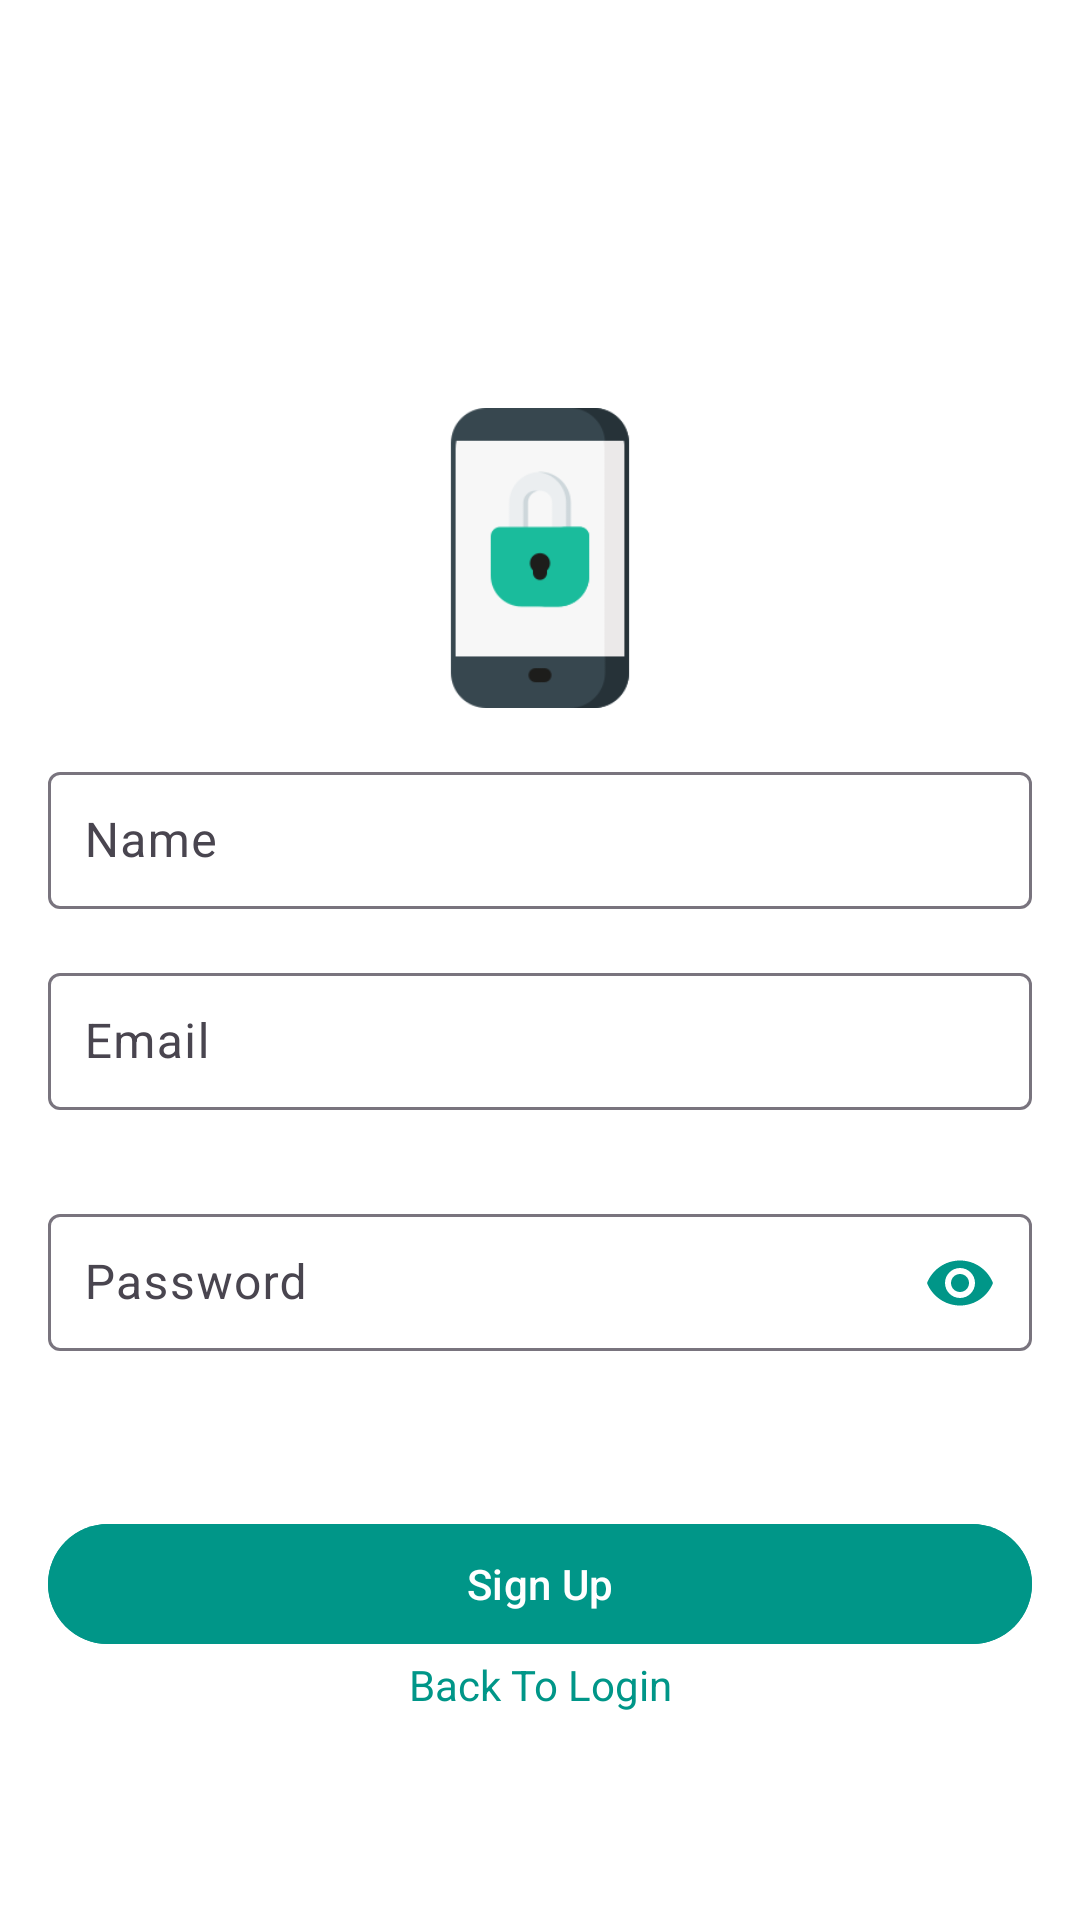

Named icons in this screenshot (1080px x 1920px) and their bounding boxes, {"left": x1, "top": y1, "right": x2, "bottom": y2}:
screenlock: {"left": 450, "top": 408, "right": 630, "bottom": 708}
